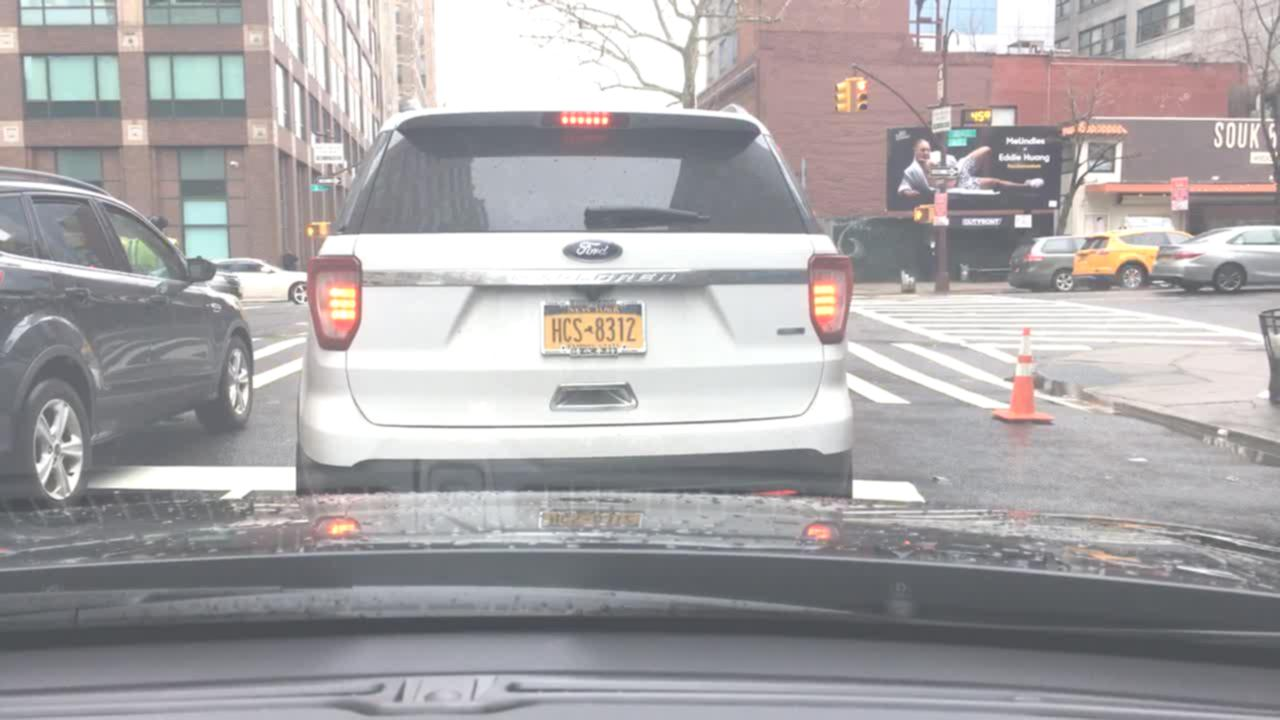ford: (552, 232, 655, 268)
